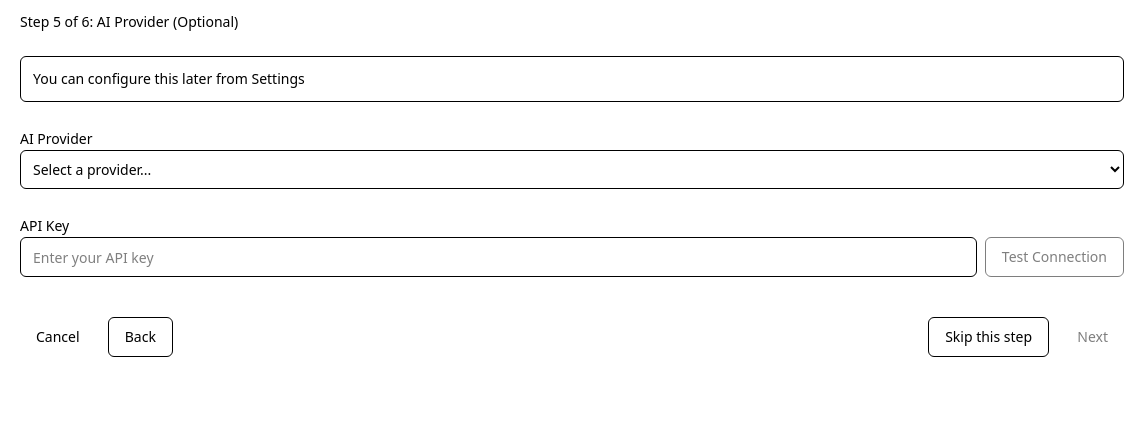
Scenario: Step 5: AI Provider Configuration › handles timeout error (10-second timeout)
Select "OpenAI" in the dropdown with test id "ai-provider-select": (572, 170) [20, 150, 1124, 189]
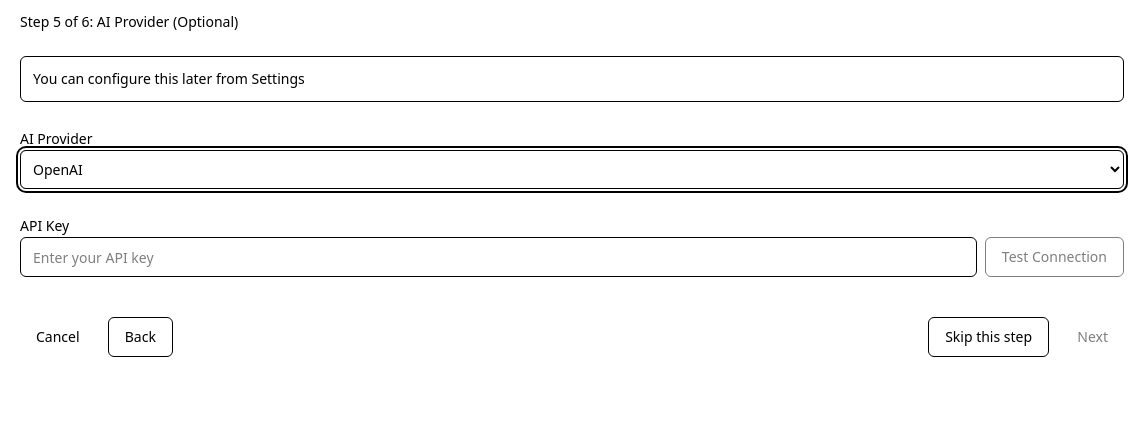
In the password field with test id "api-key-input": (498, 257) [20, 237, 977, 277], type "test-key"
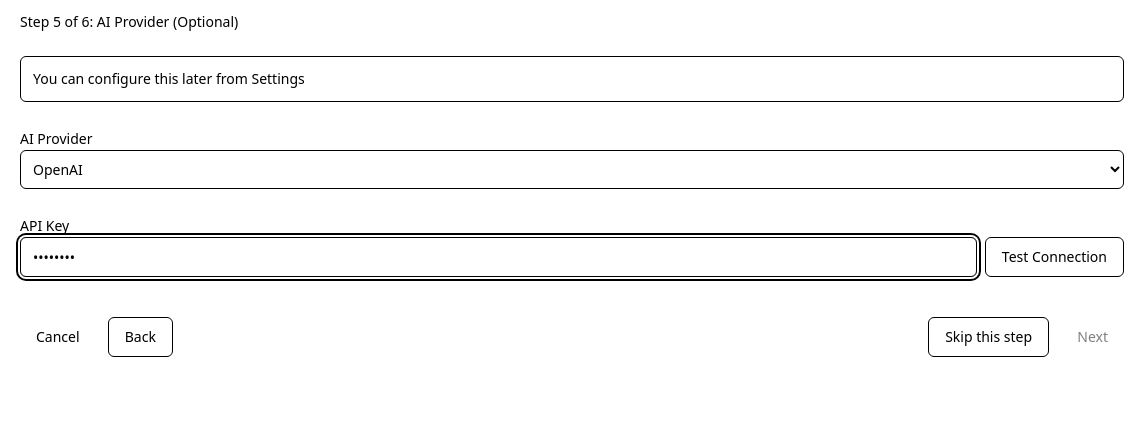
Click the button with test id "test-connection-button": (1054, 257) [985, 237, 1124, 277]
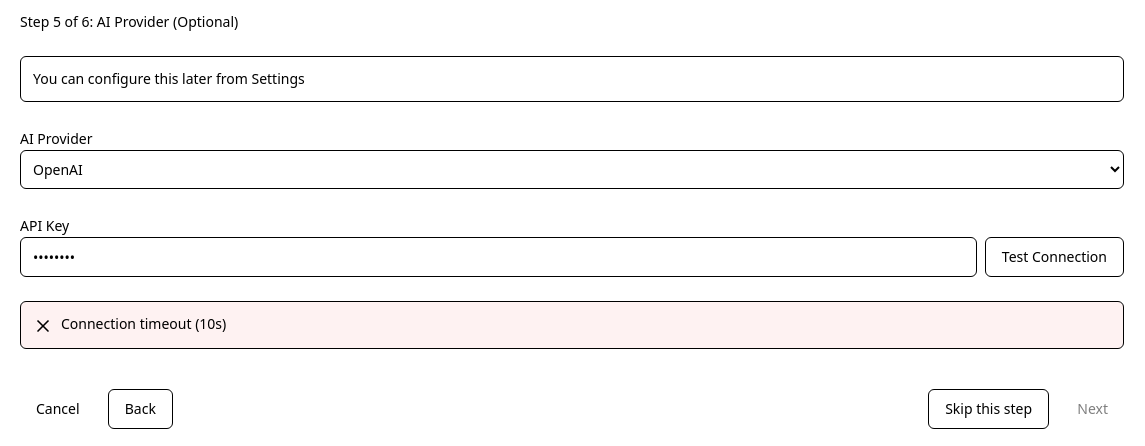
Expected: the message "Connection timeout (10s)" is shown, [20, 301, 1124, 349]
Expected: the message with test id "connection-test-result" reads "Connection timeout (10s)", [61, 314, 226, 333]
